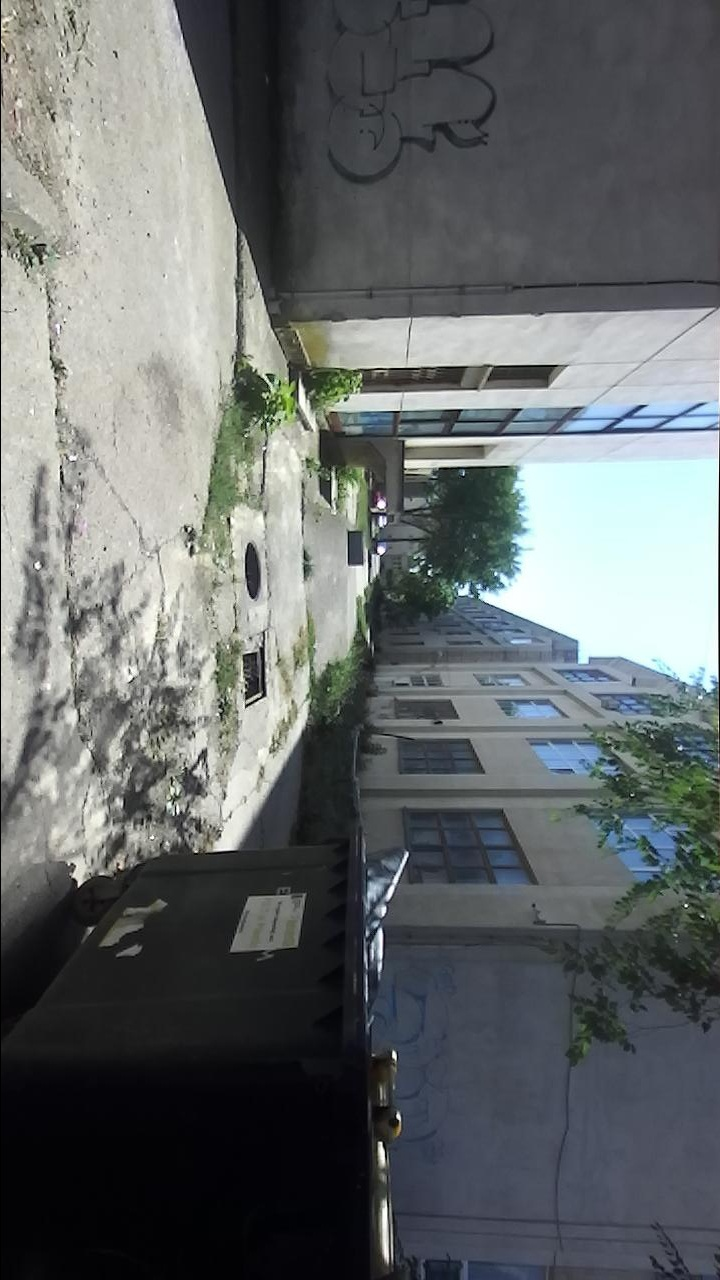drain: (236, 645, 269, 714), (240, 538, 265, 607)
